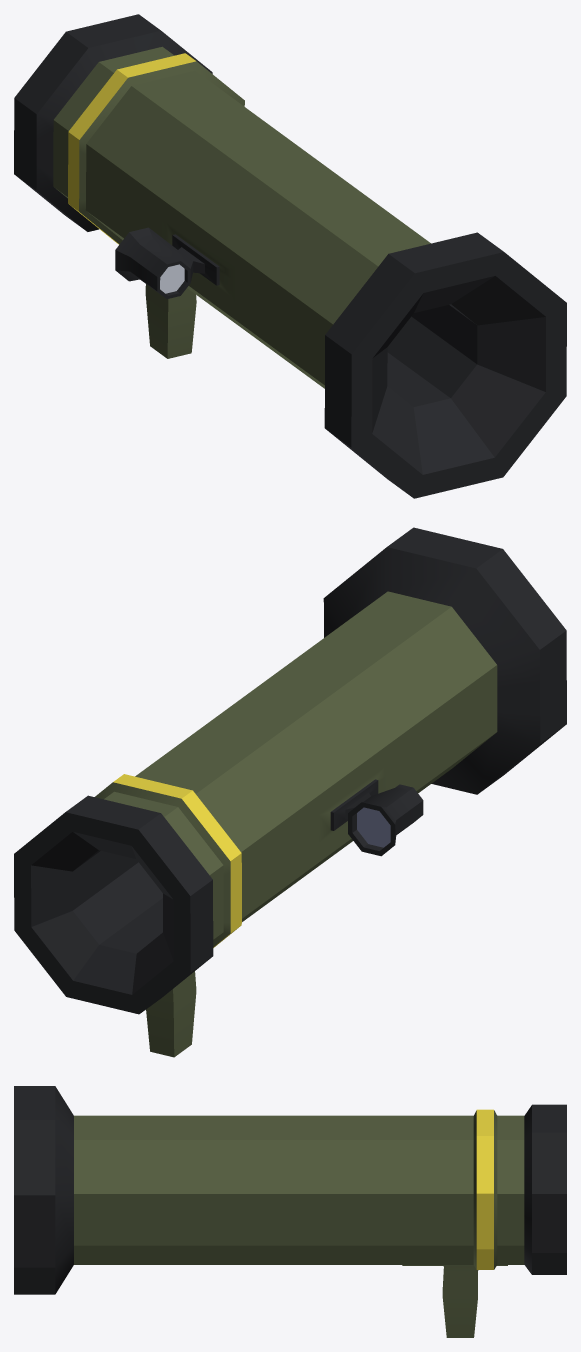
The model's file is AT4 Launchaer.glb.
3 views of the same model, one above another, from view 1: azimuth 30°, elevation 25°; view 2: azimuth 150°, elevation 25°; view 3: azimuth 270°, elevation 25° (orthographic). The views are drawn at different scales.
Visible parts, largest first — view 1: AT4L; view 2: AT4L; view 3: AT4L.
Boxes of the visible parts, x1,y1,x2,y2 form: AT4L: [14, 14, 566, 498]; AT4L: [14, 527, 566, 1057]; AT4L: [14, 1086, 566, 1337].
Size of the model in its own units: 0.3578 by 0.4099 by 0.8894.
